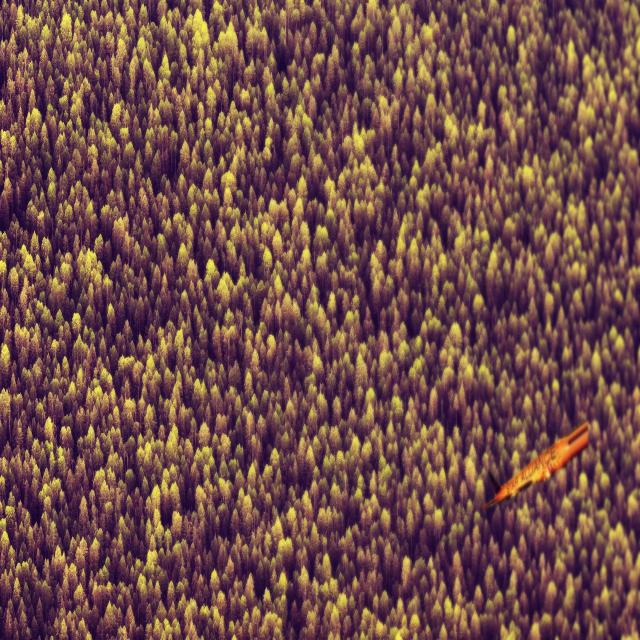airplane: (483, 420, 589, 510)
